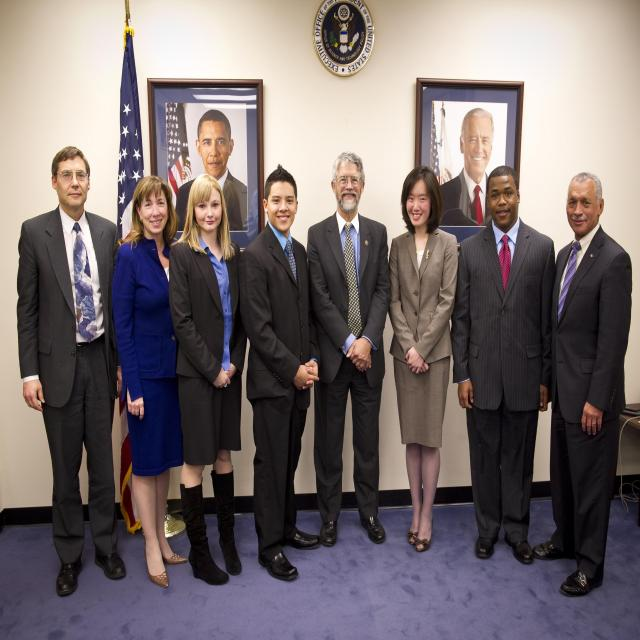body: (15, 145, 130, 601), (450, 164, 560, 566), (531, 172, 634, 599), (238, 164, 323, 583), (305, 151, 392, 550), (110, 174, 193, 589), (168, 173, 245, 587), (386, 164, 459, 553), (174, 109, 249, 231), (437, 107, 494, 227)
